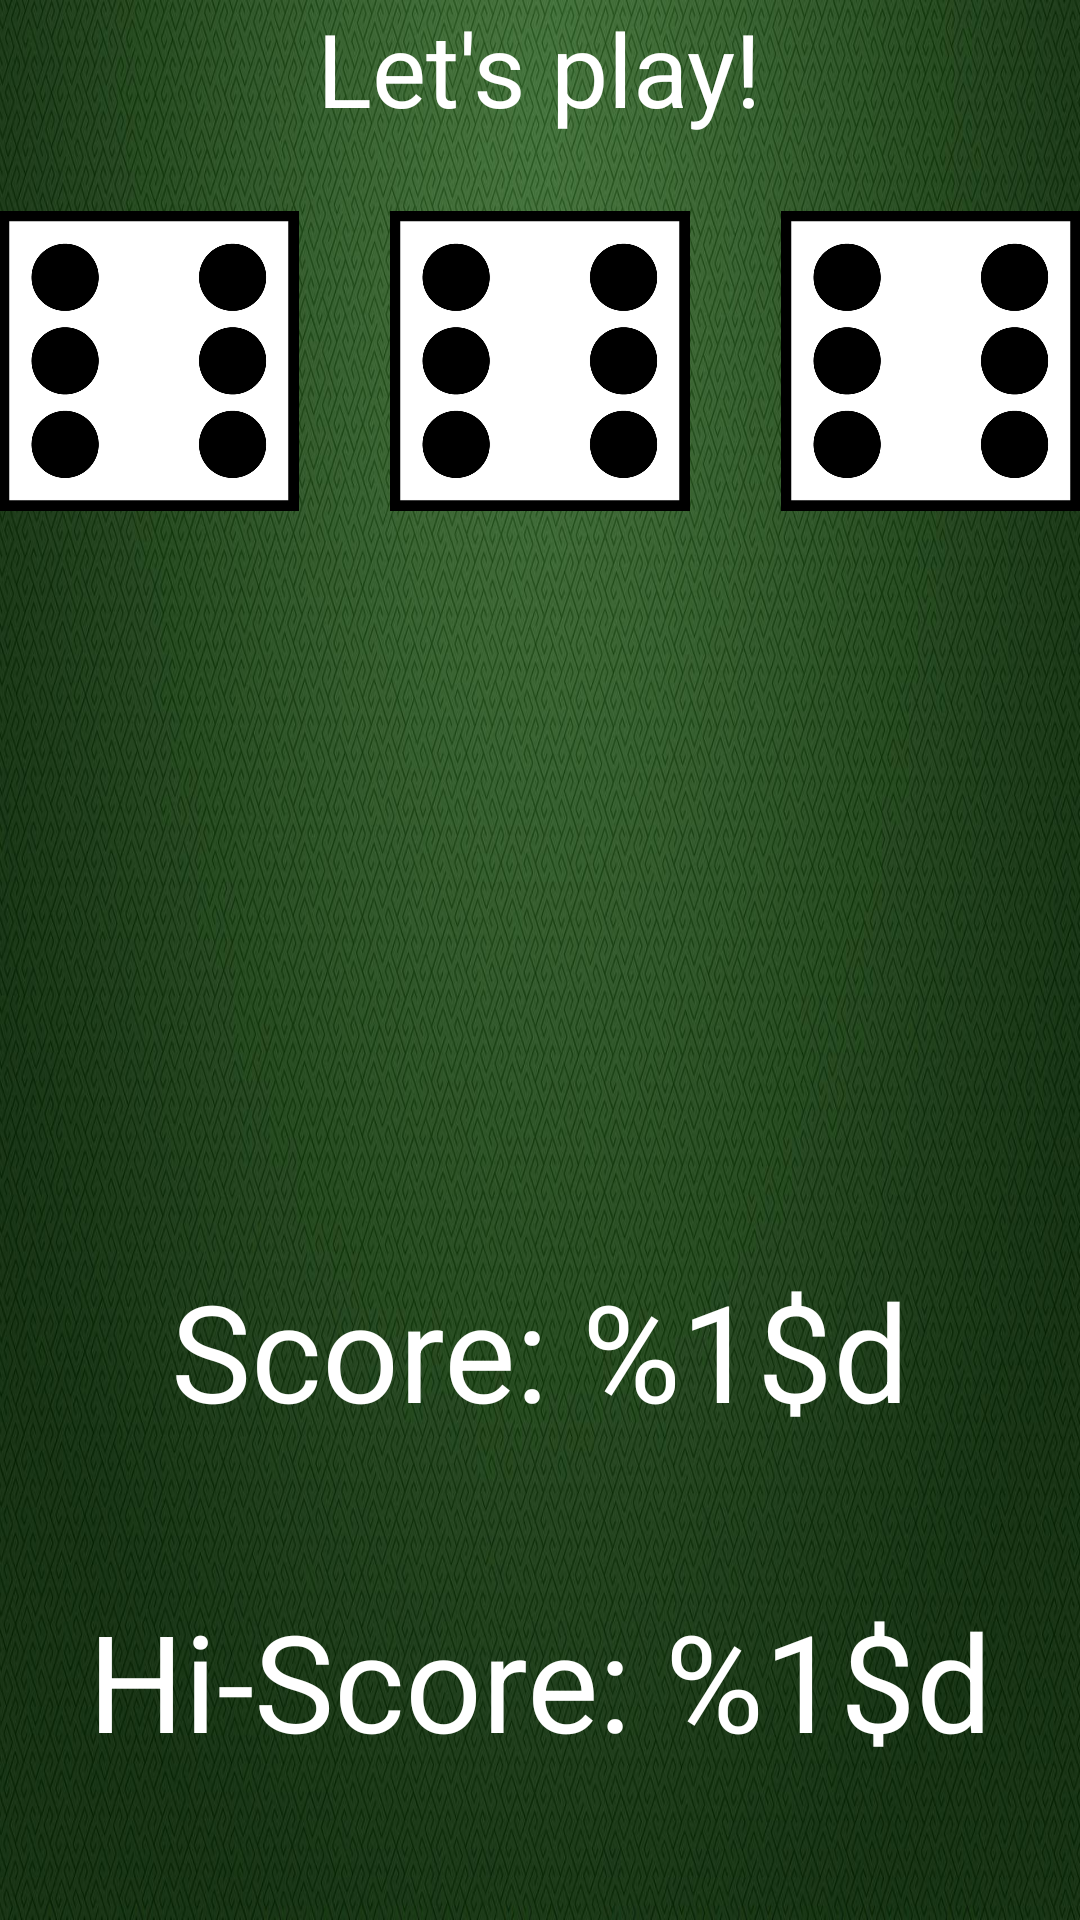

Where icons sit on this 1080×1920 app screen, as (x1, y1, x2, y2):
die: (0, 211, 299, 511), (390, 211, 690, 511), (781, 211, 1080, 511)
